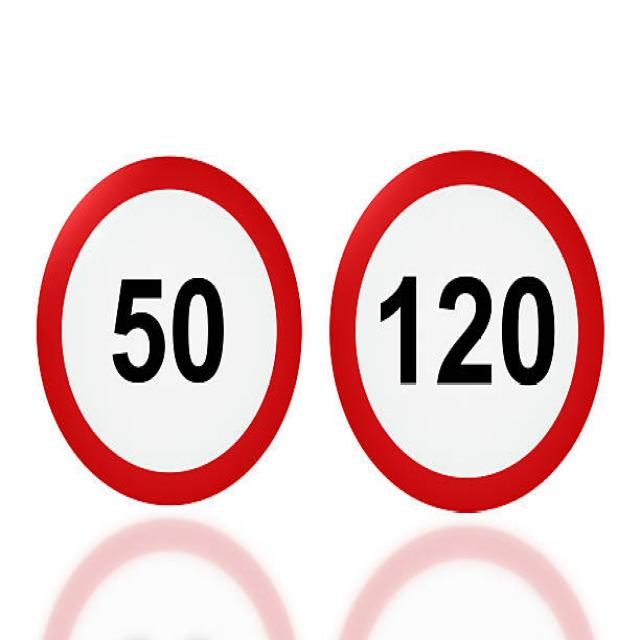speed_limit_120: (329, 143, 606, 512)
speed_limit_50: (34, 153, 303, 505)
